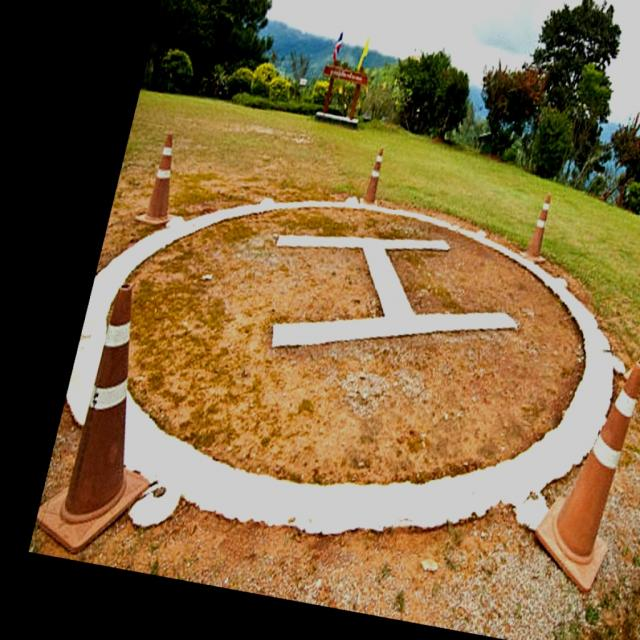helipad: (115, 192, 621, 554)
